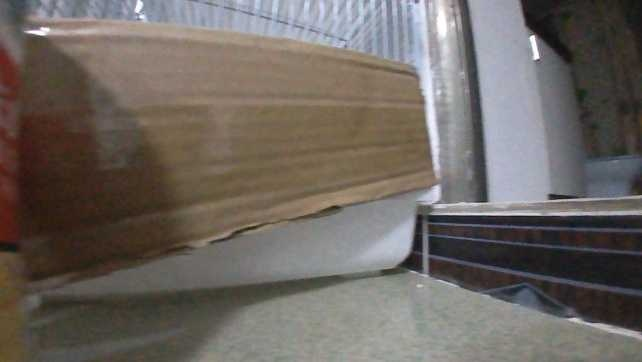door_sill: (414, 195, 641, 322)
toilet: (580, 147, 640, 196)
